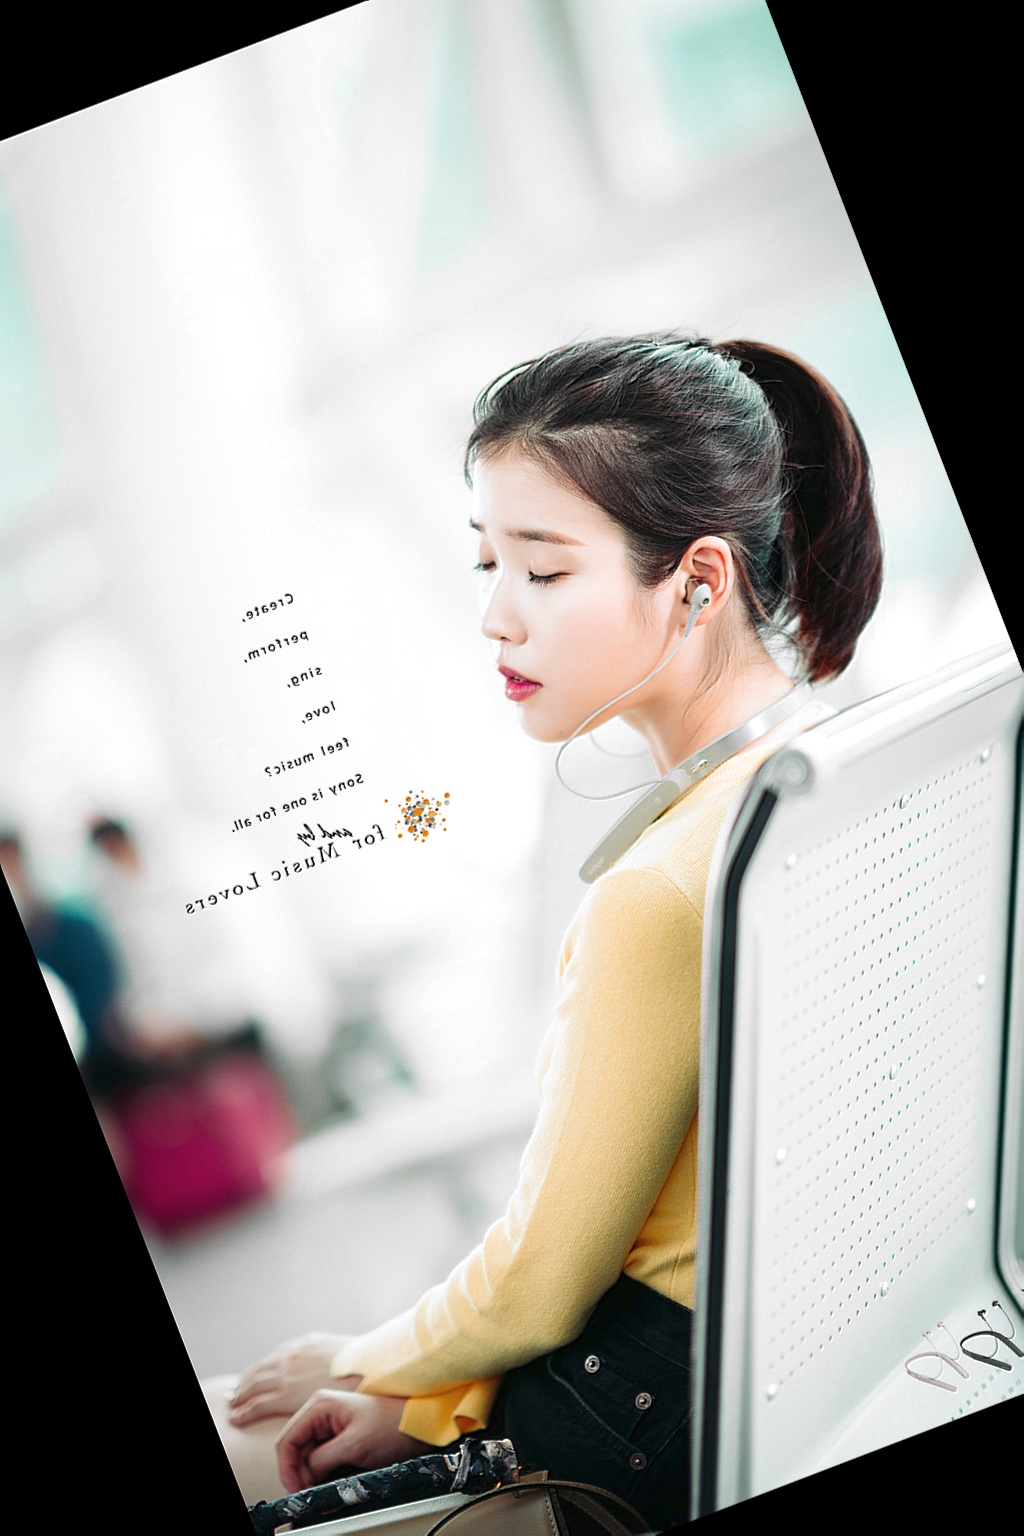earphone: (648, 529, 753, 635)
